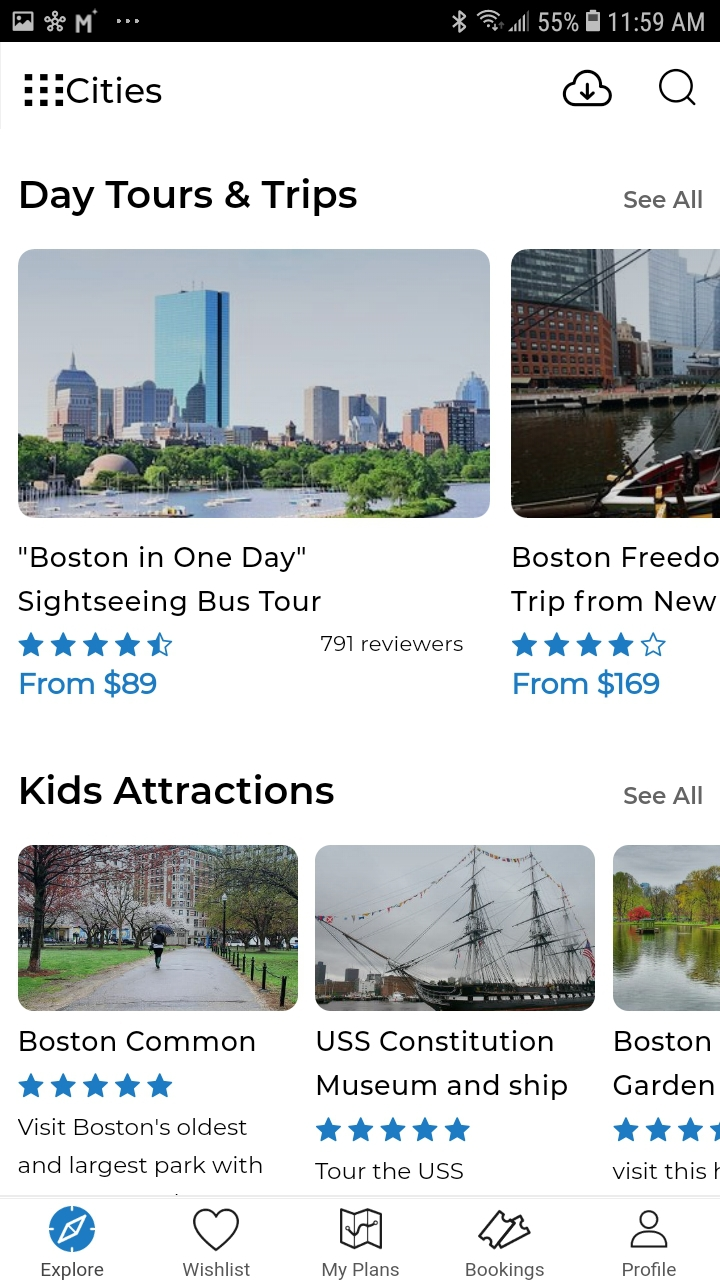Icon: (18, 631, 173, 657), (512, 631, 666, 657), (18, 1073, 173, 1098), (316, 1117, 470, 1142), (613, 1117, 720, 1142), (478, 1209, 532, 1250), (50, 1206, 96, 1252), (193, 1207, 240, 1251), (562, 71, 612, 108), (340, 1208, 383, 1250), (630, 1210, 668, 1248), (658, 69, 696, 106), (25, 74, 65, 107)
Image: (19, 250, 491, 519), (511, 250, 720, 519), (315, 845, 596, 1012), (18, 845, 299, 1011), (613, 845, 720, 1011)
Text: (18, 545, 322, 618), (318, 1029, 568, 1101), (18, 1117, 263, 1178), (510, 547, 720, 617), (22, 178, 358, 218), (21, 773, 335, 805), (613, 1031, 714, 1097), (20, 1030, 256, 1052), (514, 669, 660, 699), (21, 669, 157, 698), (315, 1161, 463, 1180), (67, 77, 163, 105), (321, 636, 464, 653), (612, 1161, 720, 1180), (624, 786, 703, 805), (624, 190, 703, 209), (466, 1261, 545, 1280), (323, 1261, 400, 1280), (43, 1262, 104, 1280), (183, 1262, 251, 1277), (622, 1261, 676, 1276)
UpperTaskBar: (1, 1, 720, 43)
